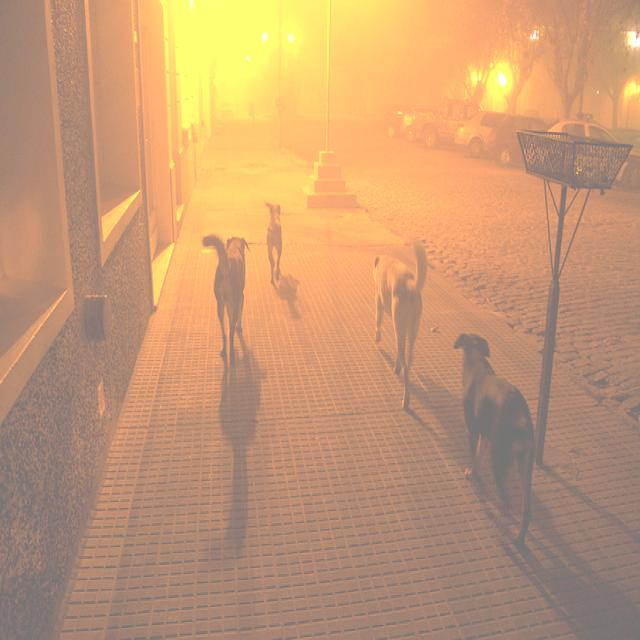Dog: (346, 212, 454, 432), (451, 335, 548, 576), (199, 239, 269, 370), (256, 167, 306, 300)
